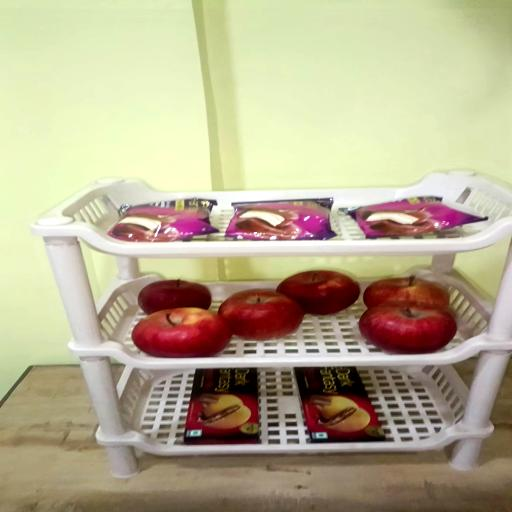Apple: (131, 307, 232, 358), (359, 303, 457, 354), (218, 289, 304, 341), (276, 270, 360, 315), (363, 276, 449, 309), (138, 279, 211, 315)
Choco Fills: (294, 366, 385, 443), (183, 368, 258, 444)
Choco Pie: (340, 197, 487, 238), (109, 198, 218, 242), (225, 199, 335, 241)
